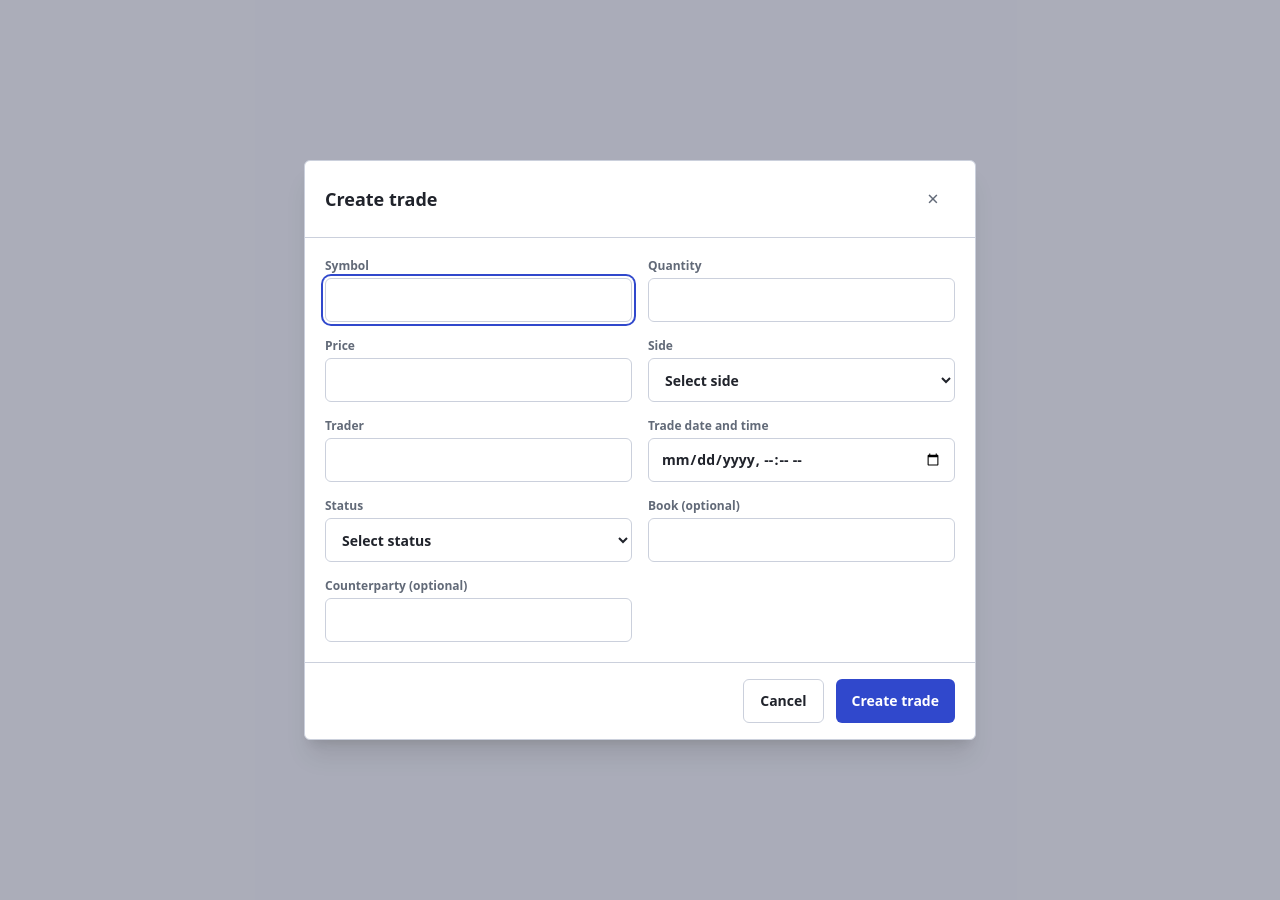
Test: CreateTradeDialog › shows accessible validation errors for missing required fields
This screenshot has width=1280, height=900.
Click the button "Create trade": [895, 701] box left=836, top=679, right=955, bottom=723
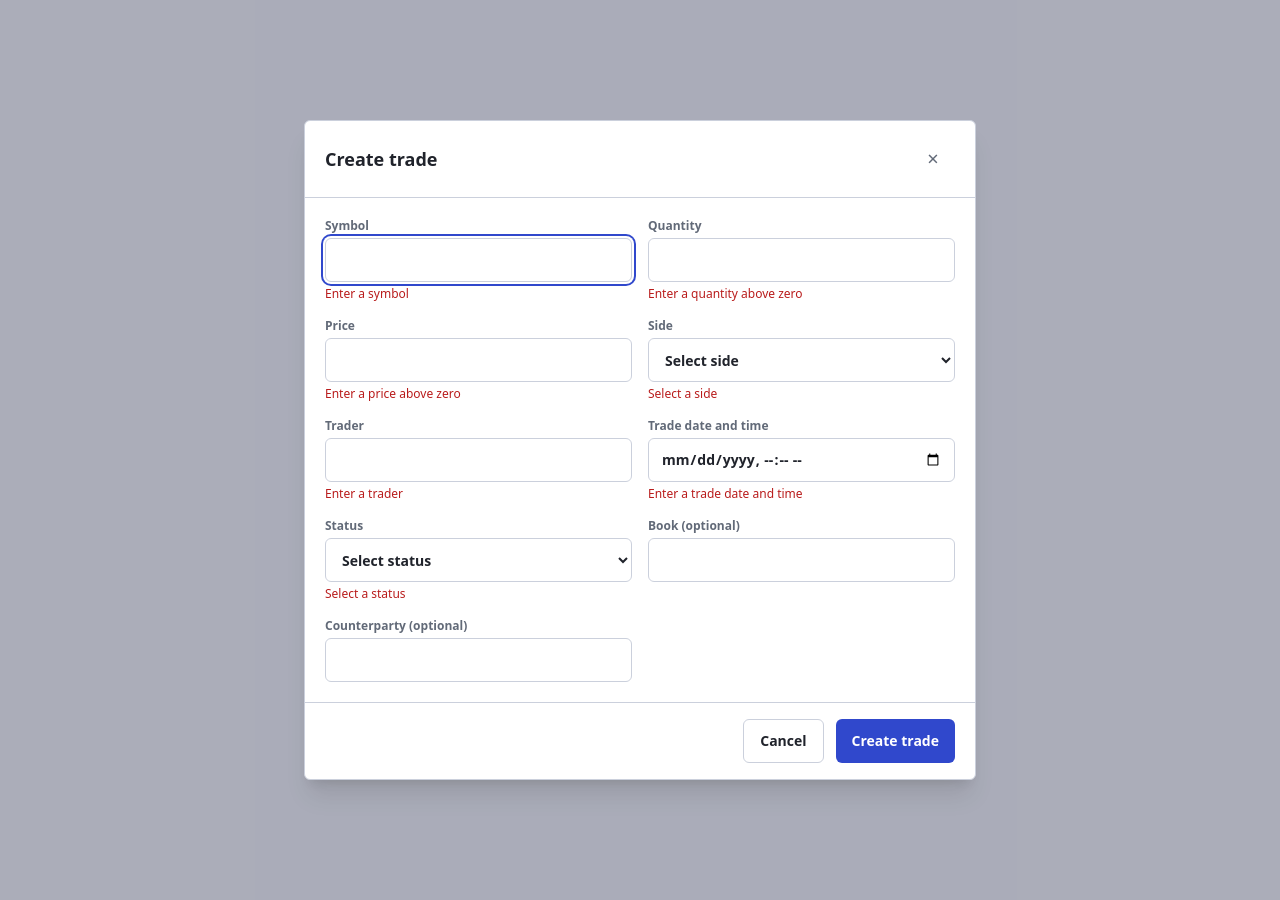
Now the text "Enter a symbol" is shown, box left=325, top=285, right=409, bottom=302
Now the text "Enter a quantity above zero" is shown, box left=648, top=285, right=803, bottom=302
Now the text "Enter a price above zero" is shown, box left=325, top=385, right=461, bottom=402
